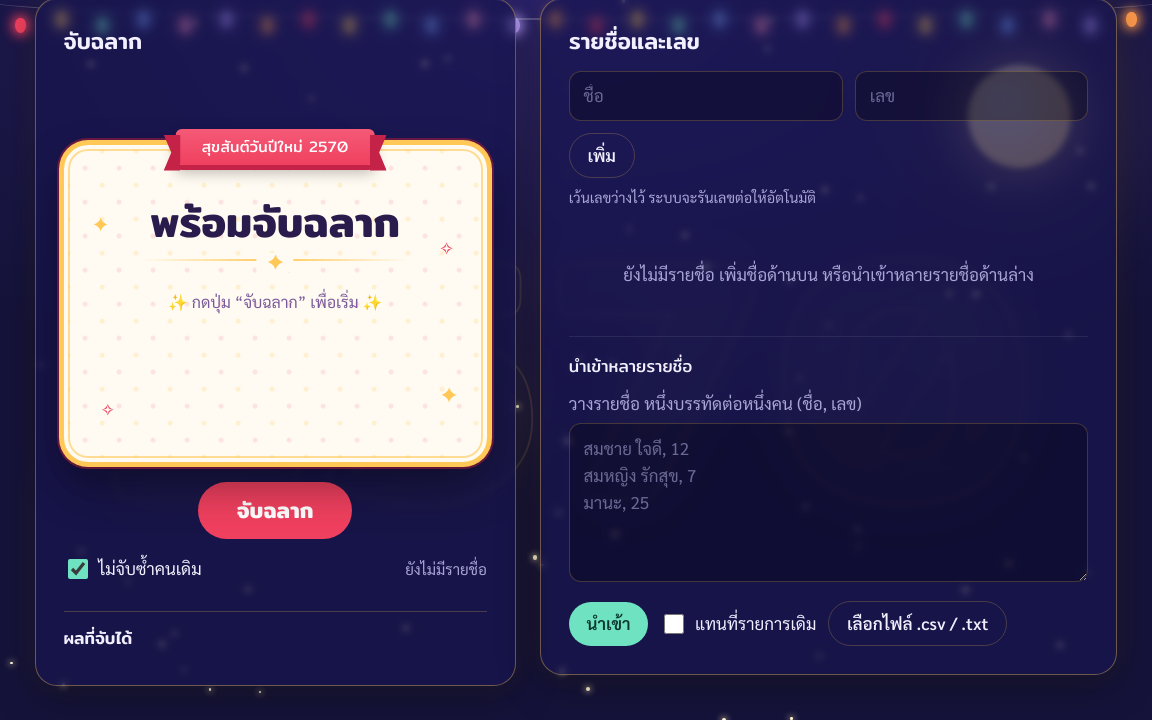
Scenario: จับฉลาก › รีเซ็ตผลการจับแล้วจับใหม่ได้
The image size is (1152, 720).
(page scrolled)
Type "ก, 1" into the text box labelled "วางรายชื่อ หนึ่งบรรทัดต่อหนึ่งคน (ชื่อ, เลข)" at [829, 503], box [569,423,1088,582]
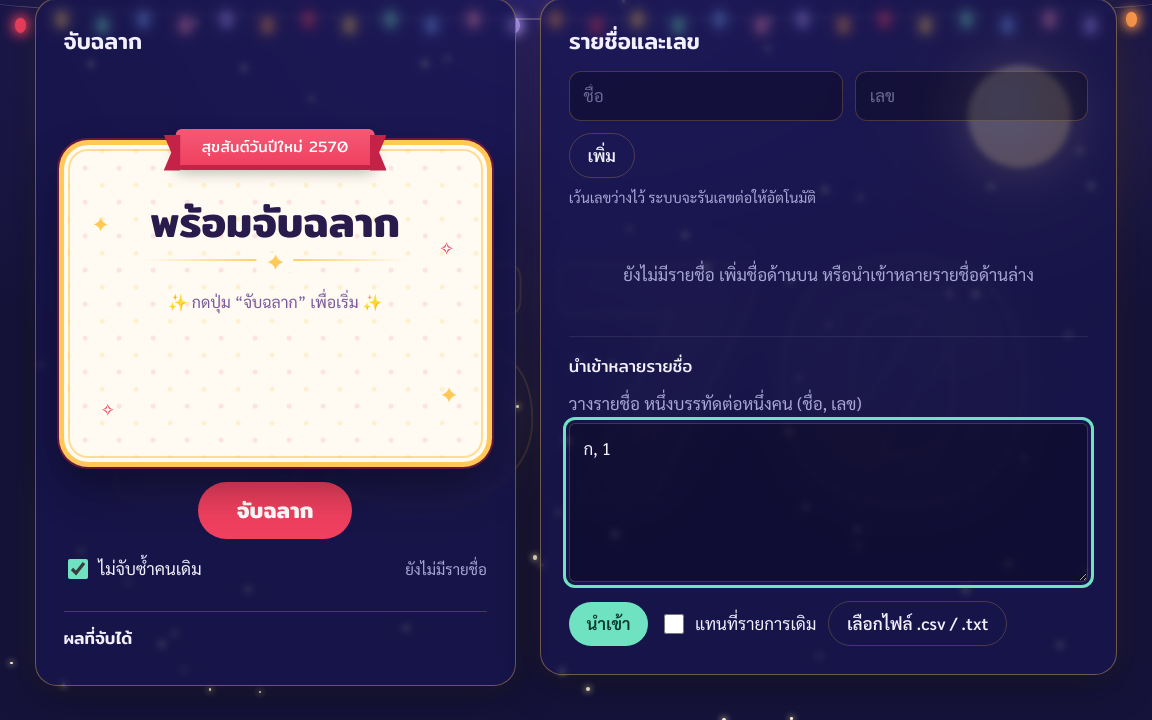
Click the button "นำเข้า" at [608, 624], box [569,602,648,646]
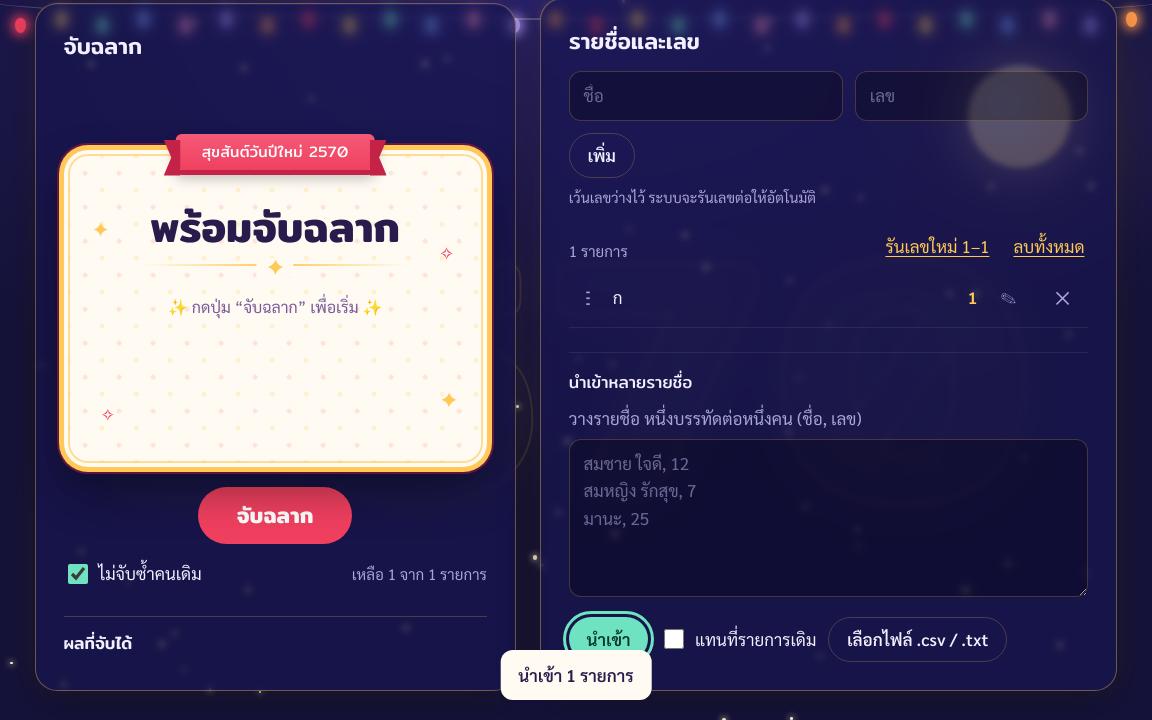
Click the button "จับฉลาก" at [275, 515], box [198,487,352,544]
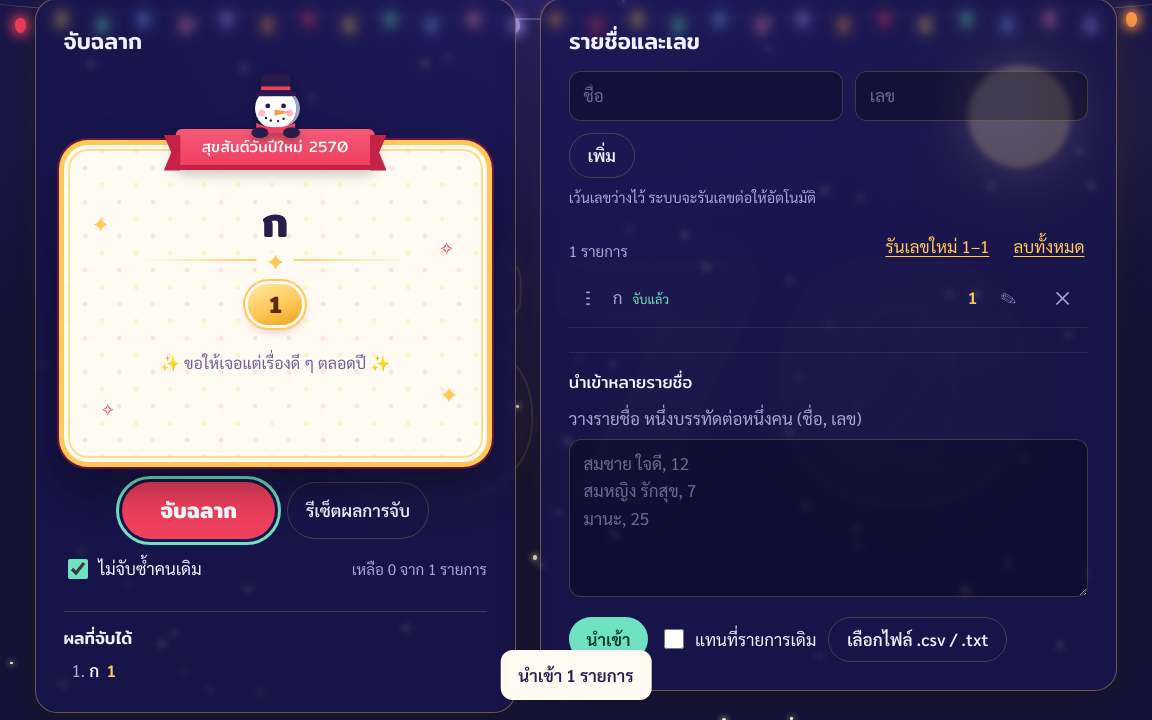
Now the text "จับแล้ว" is shown, box [632,289,669,309]
Click the button "รีเซ็ตผลการจับ" at [358, 510], box [287,482,428,539]
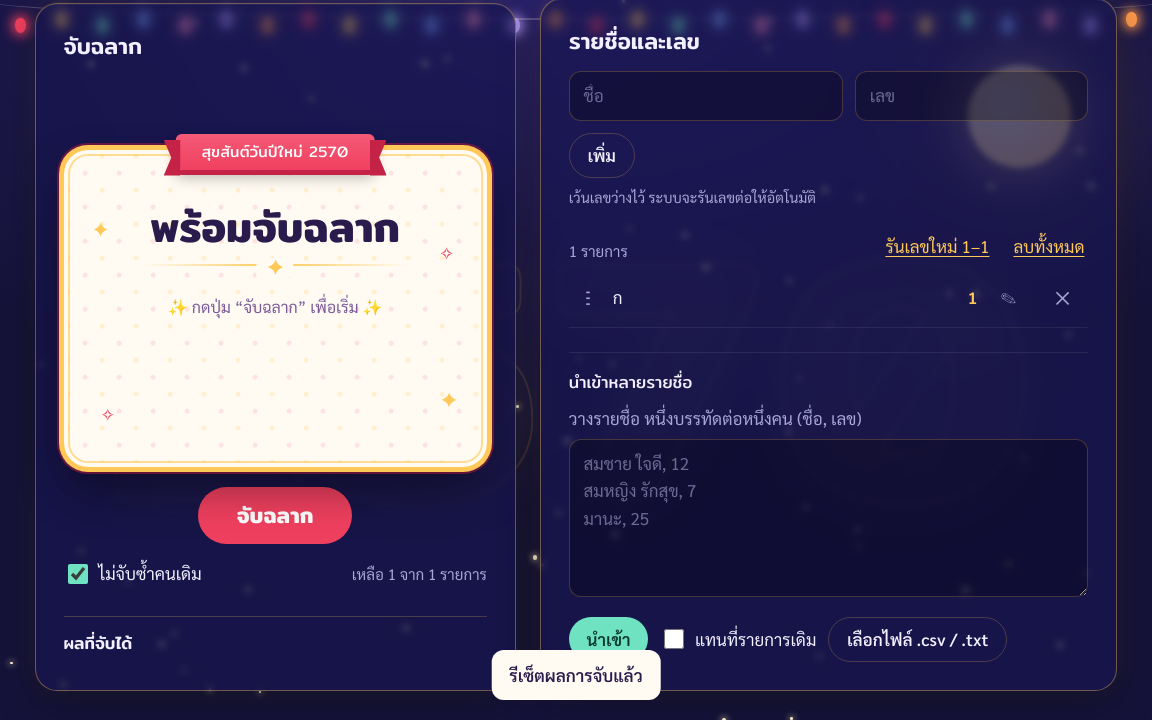
Now the text "เหลือ 1 จาก 1 รายการ" is shown, box [352,562,487,586]
